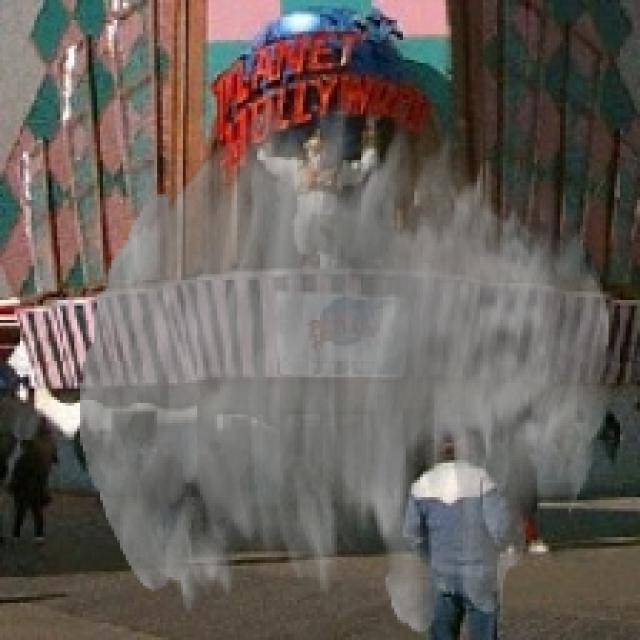smoke: (80, 95, 611, 634)
